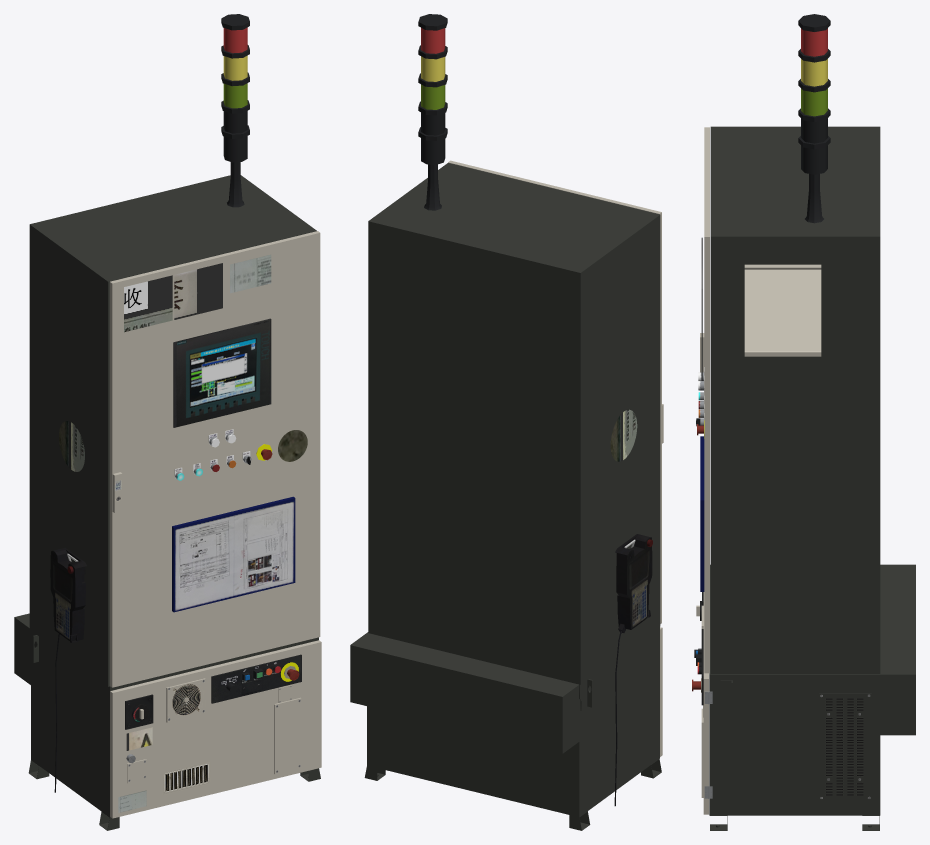
File: peidian03.FBX
The picture shows the model from 3 angles, left to right: view 1: azimuth 30°, elevation 25°; view 2: azimuth 150°, elevation 25°; view 3: azimuth 270°, elevation 25°; orthographic projection. The views are drawn at different scales.
Parts seen in each view (by area): view 1: YF_Model_peidian; view 2: YF_Model_peidian; view 3: YF_Model_peidian.
Part boxes in pixels (x1=…): YF_Model_peidian: x1=14, y1=14, x2=321, y2=830; YF_Model_peidian: x1=350, y1=14, x2=663, y2=830; YF_Model_peidian: x1=692, y1=14, x2=915, y2=830.
Size of the model in its own units: 82.96 by 252 by 64.63.
